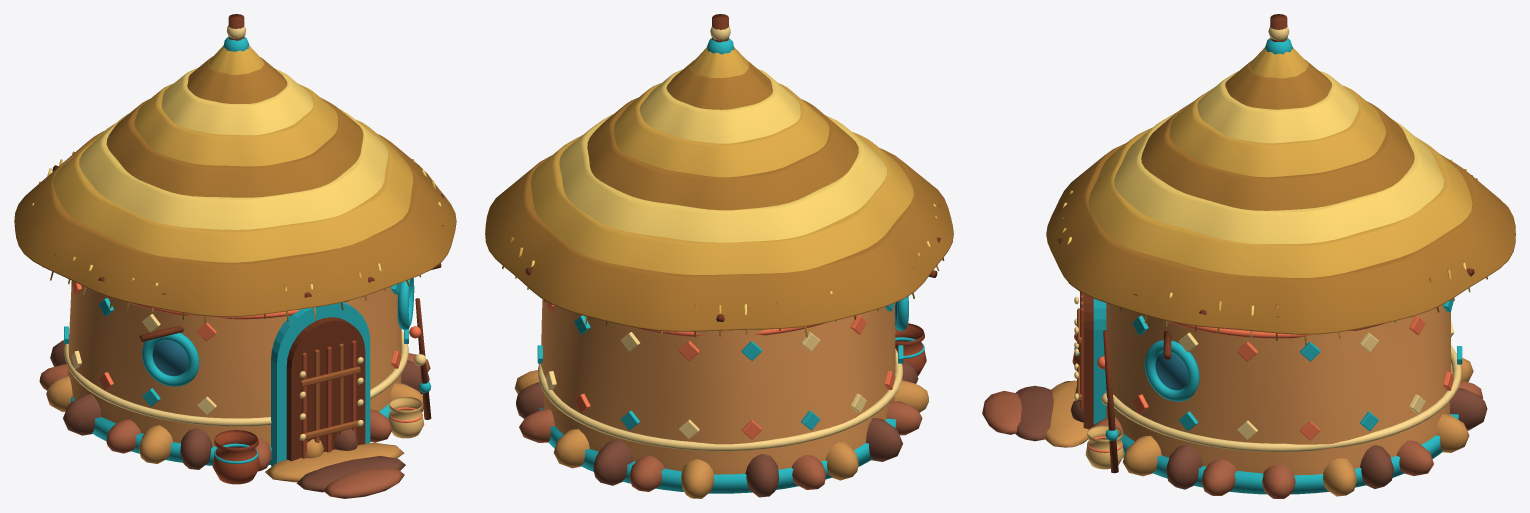
Rendered from savanna_village_house.glb.
3 renders of one model, left to right at view 1: azimuth 30°, elevation 25°; view 2: azimuth 150°, elevation 25°; view 3: azimuth 270°, elevation 25°, orthographic. The views are drawn at different scales.
Visible parts, largest first — view 1: Overlapping Thatch Layer 01, Hand-Plastered Round Wall, Overlapping Thatch Layer 02, Overlapping Thatch Layer 03, Overlapping Thatch Layer 04, Overlapping Thatch Layer 05, Carved Wooden Door, Overlapping Thatch Layer 06, Turquoise Arched Door Frame, Overlapping Thatch Layer 07, Lower Painted Wall Band, Painted Water Pot (+19 smaller); view 2: Hand-Plastered Round Wall, Overlapping Thatch Layer 01, Overlapping Thatch Layer 02, Overlapping Thatch Layer 03, Overlapping Thatch Layer 04, Overlapping Thatch Layer 05, Overlapping Thatch Layer 06, Lower Painted Wall Band, Overlapping Thatch Layer 07, Turquoise Foundation Band, Foundation Stone 06, Overlapping Thatch Layer 08 (+12 smaller); view 3: Hand-Plastered Round Wall, Overlapping Thatch Layer 01, Overlapping Thatch Layer 02, Overlapping Thatch Layer 03, Overlapping Thatch Layer 04, Overlapping Thatch Layer 05, Overlapping Thatch Layer 06, Lower Painted Wall Band, Overlapping Thatch Layer 07, Turquoise Foundation Band, Entrance Step 01, Entrance Step 02 (+18 smaller).
Boxes of the visible parts, x1,y1,x2,y2 form: Overlapping Thatch Layer 01: (14, 131, 456, 316); Hand-Plastered Round Wall: (67, 283, 401, 446); Overlapping Thatch Layer 02: (53, 120, 413, 262); Overlapping Thatch Layer 03: (79, 109, 387, 229); Overlapping Thatch Layer 04: (106, 97, 363, 197); Overlapping Thatch Layer 05: (134, 83, 337, 166); Carved Wooden Door: (286, 317, 365, 461); Overlapping Thatch Layer 06: (161, 68, 313, 135); Turquoise Arched Door Frame: (271, 302, 370, 466); Overlapping Thatch Layer 07: (187, 56, 287, 103); Lower Painted Wall Band: (64, 330, 408, 426); Painted Water Pot: (212, 430, 260, 484); Hand-Plastered Round Wall: (541, 299, 895, 474); Overlapping Thatch Layer 01: (485, 148, 953, 331); Overlapping Thatch Layer 02: (531, 132, 913, 274); Overlapping Thatch Layer 03: (559, 114, 886, 242); Overlapping Thatch Layer 04: (587, 97, 858, 210); Overlapping Thatch Layer 05: (613, 83, 829, 177); Overlapping Thatch Layer 06: (639, 69, 800, 143); Lower Painted Wall Band: (538, 349, 902, 451); Overlapping Thatch Layer 07: (666, 59, 772, 109); Turquoise Foundation Band: (539, 408, 896, 493); Foundation Stone 06: (593, 439, 632, 485); Overlapping Thatch Layer 08: (691, 47, 748, 77); Hand-Plastered Round Wall: (1106, 303, 1450, 493); Overlapping Thatch Layer 01: (1046, 143, 1515, 334); Overlapping Thatch Layer 02: (1088, 127, 1472, 277); Overlapping Thatch Layer 03: (1114, 113, 1443, 243); Overlapping Thatch Layer 04: (1141, 101, 1414, 210); Overlapping Thatch Layer 05: (1169, 85, 1385, 177); Overlapping Thatch Layer 06: (1197, 71, 1358, 143); Lower Painted Wall Band: (1106, 345, 1461, 452); Overlapping Thatch Layer 07: (1225, 60, 1331, 109); Turquoise Foundation Band: (1120, 414, 1458, 494); Entrance Step 01: (1045, 380, 1088, 447); Entrance Step 02: (1015, 385, 1053, 441).
Size of the model in its own units: 6.72 by 6.33 by 7.55.
